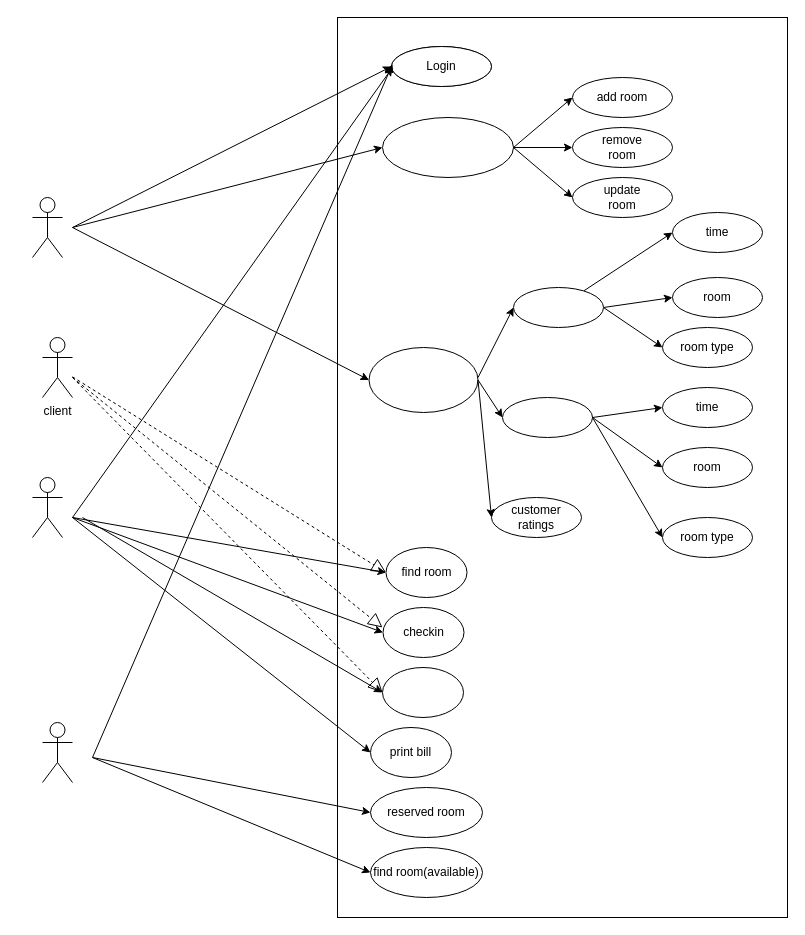
Image size: 805x935. Some labels were removed from this diagram. Here are the shapes that lost their labels. From the top down, the centre of each, then its label:
At pixel 448 147: "manage room information".
At pixel 47 227: "manage".
At pixel 558 307: "revenue".
At pixel 423 379: "show report".
At pixel 547 417: "room vacancy rate".
At pixel 47 507: "receptionist".
At pixel 423 692: "checkout".
At pixel 57 752: "saller".
